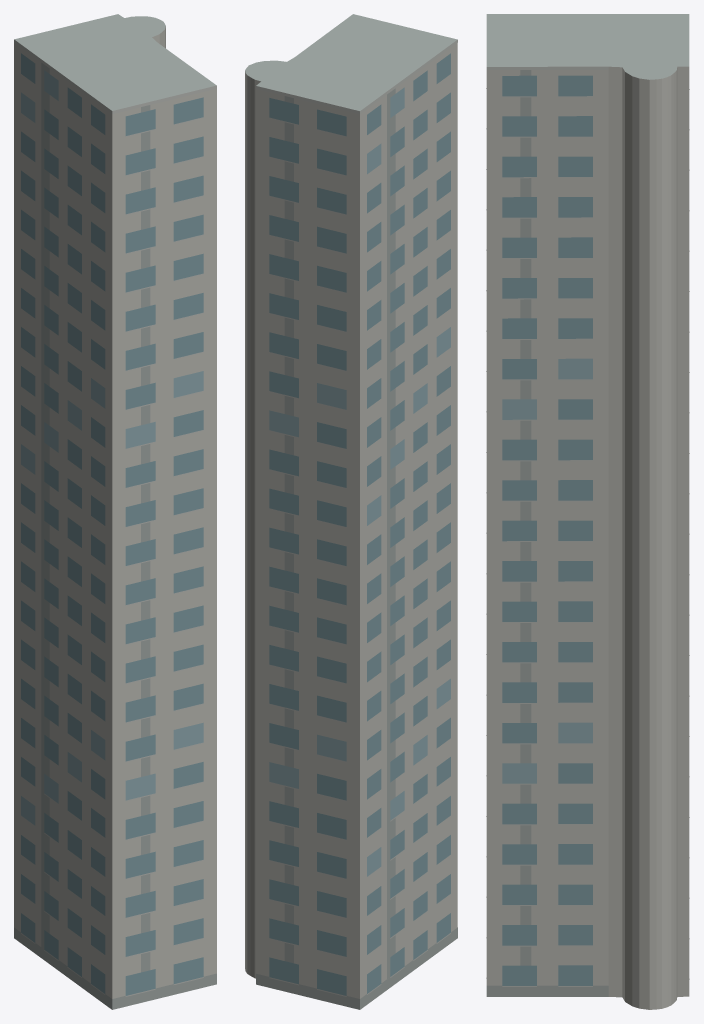
File: survey-upis-32781404.glb
3 renders of one model, left to right at view 1: azimuth 30°, elevation 25°; view 2: azimuth 150°, elevation 25°; view 3: azimuth 270°, elevation 25°, orthographic. The views are drawn at different scales.
Visible parts, largest first — view 1: survey-upis-32781404.tmp; view 2: survey-upis-32781404.tmp; view 3: survey-upis-32781404.tmp.
Part boxes in pixels (x1,y1,x2,y2): survey-upis-32781404.tmp: (14, 14, 216, 1009); survey-upis-32781404.tmp: (245, 14, 457, 1009); survey-upis-32781404.tmp: (486, 14, 689, 1009).
Size of the model in its own units: 10.66 by 70.15 by 13.89.
